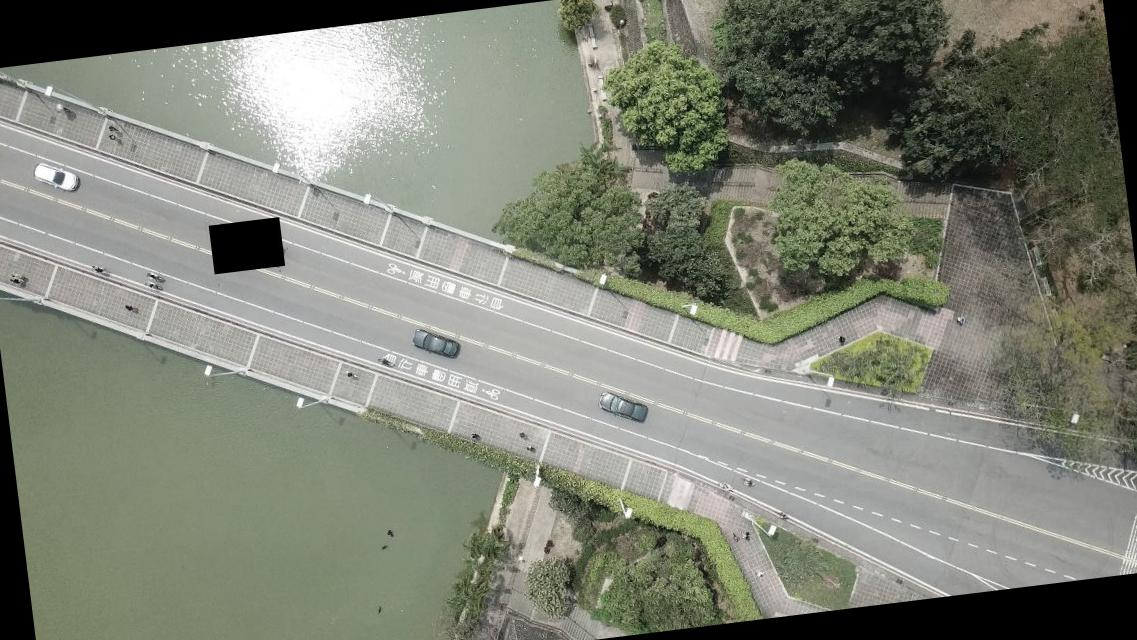vehicle: (596, 385, 649, 429), (410, 324, 461, 363), (32, 159, 79, 195)
